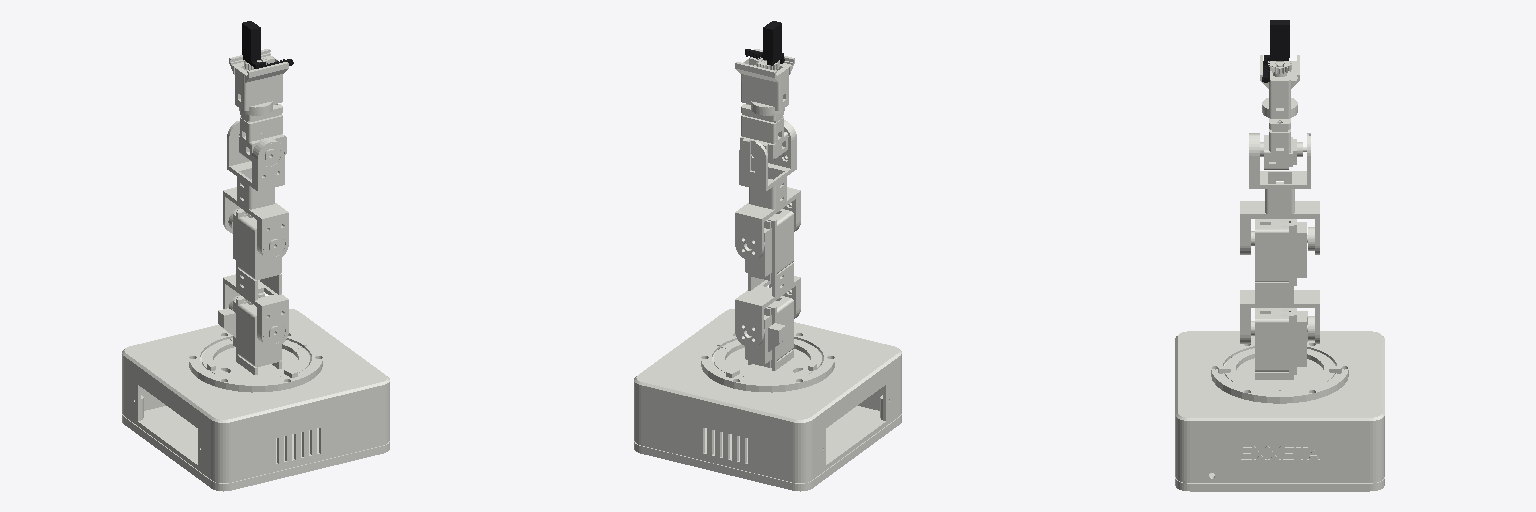
robot.urdf — exxeta_arm:
<?xml version="1.0"?>
<!-- GENERATED by tools/gen_urdf.py from cad/params/arm_params.json. Do not edit by hand. -->
<robot name="exxeta_arm">
  <link name="base_link">
    <inertial>
      <origin xyz="0.00000 0.00000 0.03750" rpy="0 0 0"/>
      <mass value="0.3885"/>
      <inertia ixx="1.118e-03" ixy="0" ixz="0" iyy="1.118e-03" iyz="0" izz="1.871e-03"/>
    </inertial>
    <visual>
      <geometry><mesh filename="meshes/base_link.stl" scale="0.001 0.001 0.001"/></geometry>
      <material name="base_link_mat"><color rgba="0.91 0.91 0.89 1"/></material>
    </visual>
    <collision>
      <geometry><mesh filename="meshes/base_link.stl" scale="0.001 0.001 0.001"/></geometry>
    </collision>
  </link>
  <link name="turntable">
    <inertial>
      <origin xyz="0.00000 0.00000 -0.01758" rpy="0 0 0"/>
      <mass value="0.1242"/>
      <inertia ixx="1.353e-04" ixy="0" ixz="0" iyy="1.353e-04" iyz="0" izz="1.696e-04"/>
    </inertial>
    <visual>
      <geometry><mesh filename="meshes/turntable.stl" scale="0.001 0.001 0.001"/></geometry>
      <material name="turntable_mat"><color rgba="0.91 0.91 0.89 1"/></material>
    </visual>
    <collision>
      <geometry><mesh filename="meshes/turntable.stl" scale="0.001 0.001 0.001"/></geometry>
    </collision>
  </link>
  <link name="upper_arm">
    <inertial>
      <origin xyz="0.00000 -0.00000 0.04213" rpy="0 0 0"/>
      <mass value="0.0912"/>
      <inertia ixx="1.250e-04" ixy="0" ixz="0" iyy="9.792e-05" iyz="0" izz="3.752e-05"/>
    </inertial>
    <visual>
      <geometry><mesh filename="meshes/upper_arm.stl" scale="0.001 0.001 0.001"/></geometry>
      <material name="upper_arm_mat"><color rgba="0.91 0.91 0.89 1"/></material>
    </visual>
    <collision>
      <geometry><mesh filename="meshes/upper_arm.stl" scale="0.001 0.001 0.001"/></geometry>
    </collision>
  </link>
  <link name="forearm">
    <inertial>
      <origin xyz="0.00000 -0.00000 0.04000" rpy="0 0 0"/>
      <mass value="0.0311"/>
      <inertia ixx="4.026e-05" ixy="0" ixz="0" iyy="3.102e-05" iyz="0" izz="1.280e-05"/>
    </inertial>
    <visual>
      <geometry><mesh filename="meshes/forearm.stl" scale="0.001 0.001 0.001"/></geometry>
      <material name="forearm_mat"><color rgba="0.91 0.91 0.89 1"/></material>
    </visual>
    <collision>
      <geometry><mesh filename="meshes/forearm.stl" scale="0.001 0.001 0.001"/></geometry>
    </collision>
  </link>
  <link name="wrist">
    <inertial>
      <origin xyz="0.00498 -0.00130 0.01463" rpy="0 0 0"/>
      <mass value="0.0428"/>
      <inertia ixx="1.756e-05" ixy="0" ixz="0" iyy="1.349e-05" iyz="0" izz="1.230e-05"/>
    </inertial>
    <visual>
      <geometry><mesh filename="meshes/wrist.stl" scale="0.001 0.001 0.001"/></geometry>
      <material name="wrist_mat"><color rgba="0.91 0.91 0.89 1"/></material>
    </visual>
    <collision>
      <geometry><mesh filename="meshes/wrist.stl" scale="0.001 0.001 0.001"/></geometry>
    </collision>
  </link>
  <link name="gripper">
    <inertial>
      <origin xyz="0.00300 0.00000 0.05532" rpy="0 0 0"/>
      <mass value="0.0308"/>
      <inertia ixx="7.653e-06" ixy="0" ixz="0" iyy="8.530e-06" iyz="0" izz="6.536e-06"/>
    </inertial>
    <visual>
      <geometry><mesh filename="meshes/gripper.stl" scale="0.001 0.001 0.001"/></geometry>
      <material name="gripper_mat"><color rgba="0.91 0.91 0.89 1"/></material>
    </visual>
    <collision>
      <geometry><mesh filename="meshes/gripper.stl" scale="0.001 0.001 0.001"/></geometry>
    </collision>
  </link>
  <link name="finger_a">
    <inertial>
      <origin xyz="-0.00940 0.00323 0.09170" rpy="0 0 0"/>
      <mass value="0.0059"/>
      <inertia ixx="1.002e-06" ixy="0" ixz="0" iyy="1.425e-06" iyz="0" izz="9.348e-07"/>
    </inertial>
    <visual>
      <geometry><mesh filename="meshes/finger_a.stl" scale="0.001 0.001 0.001"/></geometry>
      <material name="finger_a_mat"><color rgba="0.16 0.16 0.17 1"/></material>
    </visual>
    <collision>
      <geometry><mesh filename="meshes/finger_a.stl" scale="0.001 0.001 0.001"/></geometry>
    </collision>
  </link>
  <link name="finger_b">
    <inertial>
      <origin xyz="-0.00940 0.00323 0.09170" rpy="0 0 0"/>
      <mass value="0.0059"/>
      <inertia ixx="1.002e-06" ixy="0" ixz="0" iyy="1.425e-06" iyz="0" izz="9.348e-07"/>
    </inertial>
    <visual>
      <geometry><mesh filename="meshes/finger_b.stl" scale="0.001 0.001 0.001"/></geometry>
      <material name="finger_b_mat"><color rgba="0.16 0.16 0.17 1"/></material>
    </visual>
    <collision>
      <geometry><mesh filename="meshes/finger_b.stl" scale="0.001 0.001 0.001"/></geometry>
    </collision>
  </link>
  <link name="tcp"/>
  <joint name="base_yaw" type="revolute">
    <parent link="base_link"/>
    <child link="turntable"/>
    <origin xyz="0.00000 0.00000 0.10650" rpy="0 0 0"/>
    <axis xyz="0 0 1"/>
    <limit lower="-1.57080" upper="1.57080" effort="1.079" velocity="7.480"/>
  </joint>
  <joint name="shoulder_pitch" type="revolute">
    <parent link="turntable"/>
    <child link="upper_arm"/>
    <origin xyz="0.00000 0.00000 0.00000" rpy="0 0 0"/>
    <axis xyz="0 1 0"/>
    <limit lower="-1.25664" upper="1.57080" effort="1.079" velocity="7.480"/>
  </joint>
  <joint name="elbow_pitch" type="revolute">
    <parent link="upper_arm"/>
    <child link="forearm"/>
    <origin xyz="0.00000 0.00000 0.08000" rpy="0 0 0"/>
    <axis xyz="0 1 0"/>
    <limit lower="-0.87266" upper="2.09440" effort="1.079" velocity="7.480"/>
  </joint>
  <joint name="wrist_pitch" type="revolute">
    <parent link="forearm"/>
    <child link="wrist"/>
    <origin xyz="0.00000 0.00000 0.08000" rpy="0 0 0"/>
    <axis xyz="0 1 0"/>
    <limit lower="-1.48353" upper="1.48353" effort="0.216" velocity="13.090"/>
  </joint>
  <joint name="wrist_roll" type="revolute">
    <parent link="wrist"/>
    <child link="gripper"/>
    <origin xyz="0.00000 0.00000 0.00000" rpy="0 0 0"/>
    <axis xyz="0 0 1"/>
    <limit lower="-1.48353" upper="1.48353" effort="0.216" velocity="13.090"/>
  </joint>
  <joint name="gripper" type="prismatic">
    <parent link="gripper"/>
    <child link="finger_a"/>
    <origin xyz="0 0 0" rpy="0 0 0"/>
    <axis xyz="1 0 0"/>
    <limit lower="0" upper="0.02513" effort="23.97" velocity="0.1178"/>
  </joint>
  <joint name="gripper_mimic" type="prismatic">
    <parent link="gripper"/>
    <child link="finger_b"/>
    <origin xyz="0 0 0" rpy="0 0 3.141593"/>
    <axis xyz="1 0 0"/>
    <limit lower="0" upper="0.02513" effort="23.97" velocity="0.1178"/>
    <mimic joint="gripper" multiplier="1" offset="0"/>
  </joint>
  <joint name="tcp_fixed" type="fixed">
    <parent link="gripper"/>
    <child link="tcp"/>
    <origin xyz="0 0 0.09500" rpy="0 0 0"/>
  </joint>
</robot>

--- What the picture shows (computed from the rendered views, not written in the file) ---
The picture shows the robot from 3 angles, left to right: view 1: azimuth 30°, elevation 25°; view 2: azimuth 150°, elevation 25°; view 3: azimuth 270°, elevation 25°; orthographic projection.
Model exxeta_arm with 9 links and 8 joints (5 revolute, 2 prismatic, 1 fixed), rooted at base_link, posed all joints at 0.
Visible links, largest first — view 1: base_link, turntable, upper_arm, forearm, gripper, wrist, finger_b; view 2: base_link, forearm, upper_arm, turntable, gripper, wrist, finger_b; view 3: base_link, turntable, upper_arm, forearm, gripper, wrist, finger_b.
Boxes of the visible links, box(x1,y1,x2,y2) form: base_link: box(122, 309, 389, 491); turntable: box(202, 292, 309, 380); upper_arm: box(223, 208, 288, 347); forearm: box(223, 121, 288, 260); gripper: box(229, 49, 288, 115); wrist: box(239, 104, 286, 166); finger_b: box(242, 21, 293, 68); base_link: box(634, 309, 901, 491); forearm: box(735, 120, 800, 260); upper_arm: box(735, 209, 800, 347); turntable: box(714, 296, 821, 380); gripper: box(735, 49, 794, 115); wrist: box(740, 104, 788, 159); finger_b: box(745, 21, 784, 65); base_link: box(1175, 331, 1384, 491); turntable: box(1225, 308, 1334, 392); upper_arm: box(1240, 219, 1319, 343); forearm: box(1240, 133, 1319, 254); gripper: box(1260, 55, 1299, 118); wrist: box(1260, 118, 1306, 169); finger_b: box(1262, 20, 1289, 82).
Bounding box of the posed robot: 0.17 × 0.17 × 0.3777 m (x, y, z).
7 mesh visuals loaded from 8 distinct referenced files (7 binary STL); not drawn: 1 (reference not matched to a file when rendering).
